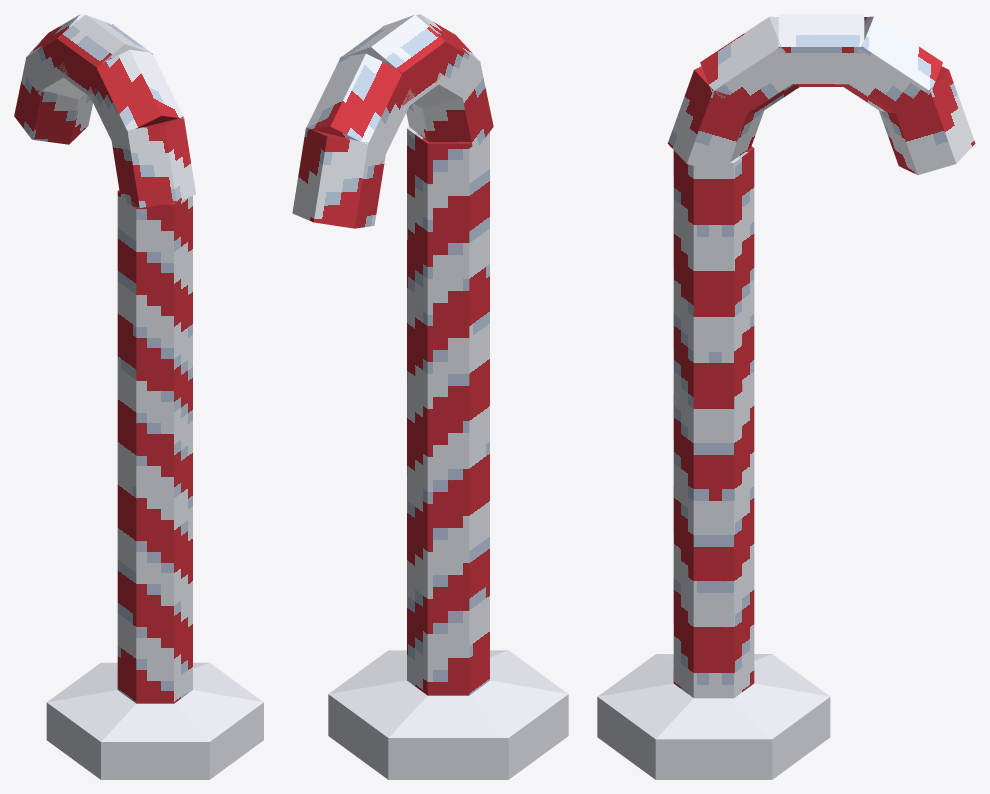
The model's file is prop_cane_post.glb.
3 views of the same model, side by side, from view 1: azimuth 30°, elevation 25°; view 2: azimuth 150°, elevation 25°; view 3: azimuth 270°, elevation 25° (orthographic). The views are drawn at different scales.
Visible parts, largest first — view 1: prop_cane_post; view 2: prop_cane_post; view 3: prop_cane_post.
Part boxes in pixels (<box>): prop_cane_post: <box>14,14,263,779</box>; prop_cane_post: <box>292,14,568,779</box>; prop_cane_post: <box>597,14,975,779</box>.
Bounding box in the file's own units: 0.45 × 1.83 × 0.8431.
1 material, 1 textured.
